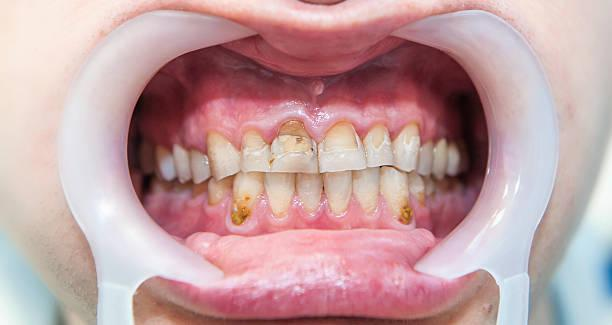Calculus: (318, 113, 375, 176), (372, 162, 418, 227), (272, 122, 325, 178), (202, 128, 239, 175), (235, 127, 271, 173), (230, 175, 266, 215), (200, 173, 233, 205)
